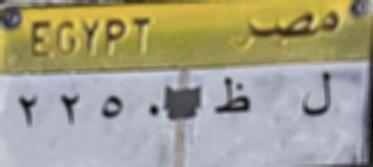0: (143, 98, 160, 124)
2: (55, 88, 85, 134), (18, 90, 44, 134)
5: (95, 92, 124, 134)
Thaa: (210, 75, 256, 120)
laam: (296, 69, 338, 128)
